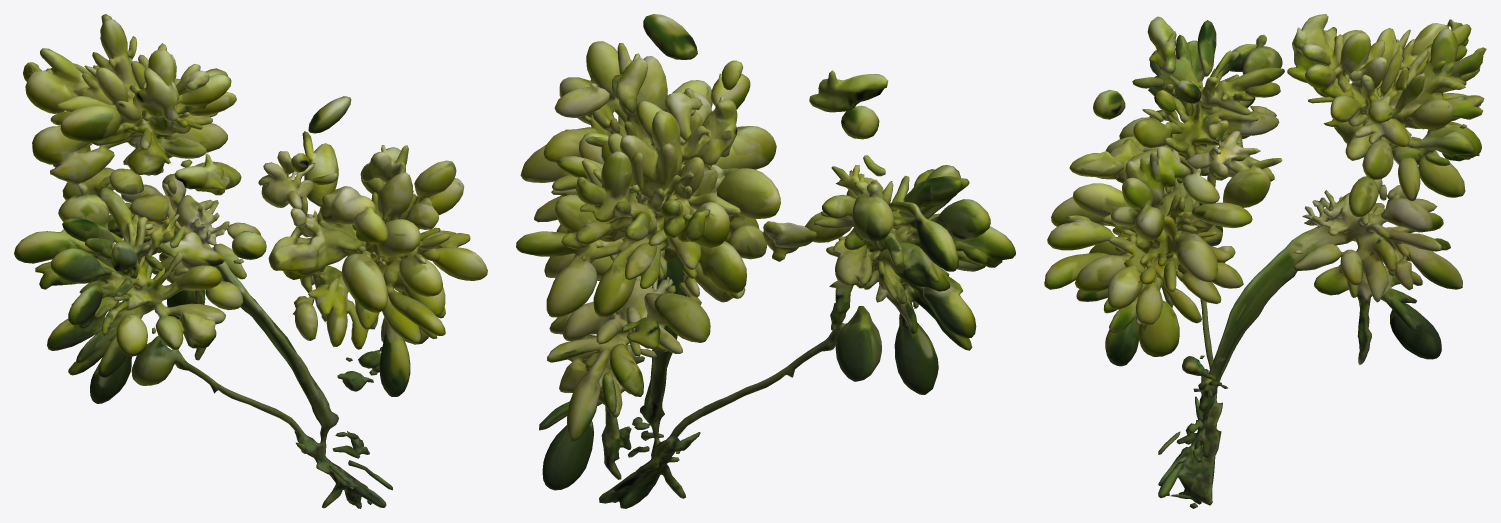
File: shrub0008_dup.gltf
3 renders of one model, left to right at view 1: azimuth 30°, elevation 25°; view 2: azimuth 150°, elevation 25°; view 3: azimuth 270°, elevation 25°, orthographic. The views are drawn at different scales.
Parts seen in each view (by area): view 1: Mesh_0.033; view 2: Mesh_0.033; view 3: Mesh_0.033.
Part boxes in pixels (left/top/right/bottom): Mesh_0.033: left=14, top=14, right=487, bottom=508; Mesh_0.033: left=516, top=14, right=1015, bottom=508; Mesh_0.033: left=1044, top=14, right=1486, bottom=508.
Size of the model in its own units: 1.93 by 1.97 by 1.89.
1 material, 1 textured.
